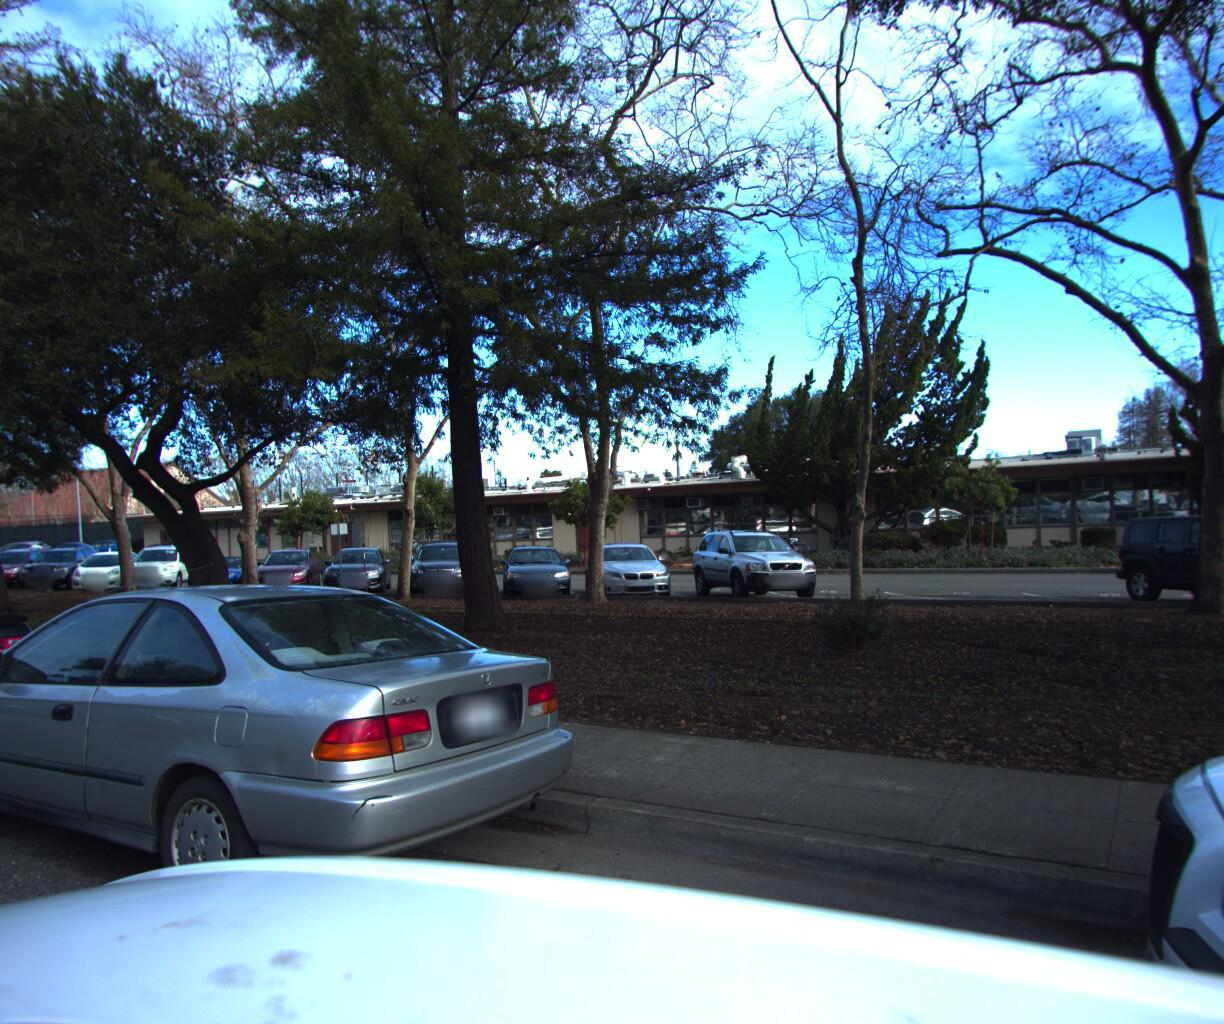car: (0, 546, 621, 1024), (0, 557, 72, 826)
